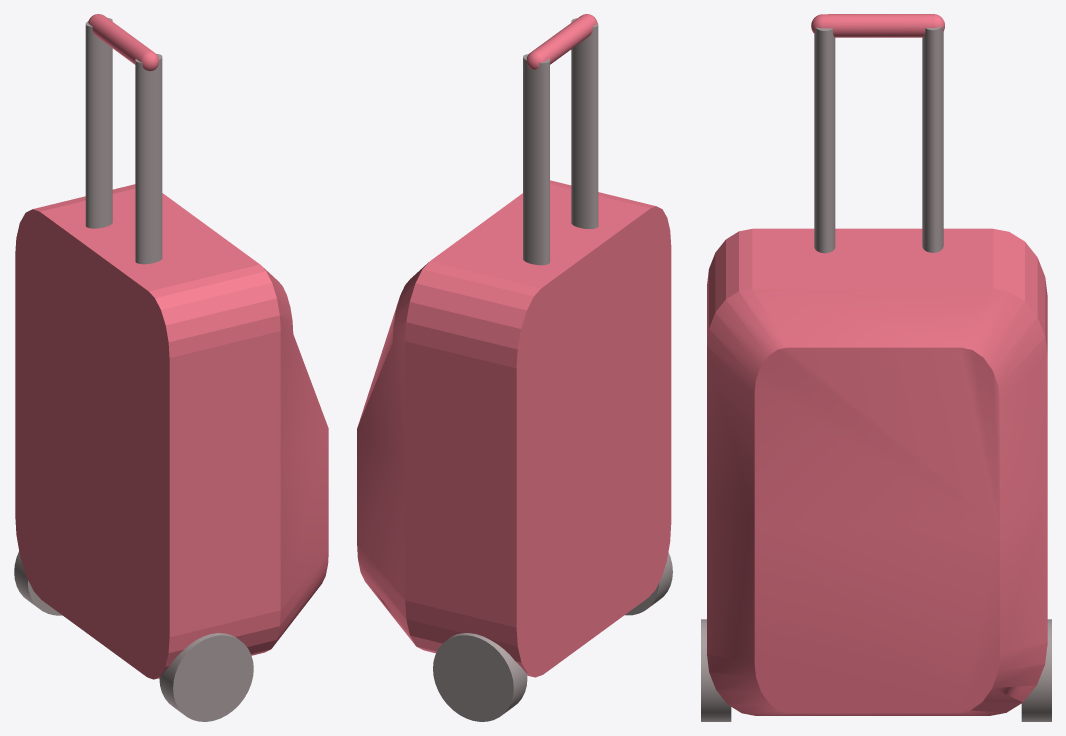
The model's file is kofer3.fbx.
The picture shows the model from 3 angles, left to right: view 1: azimuth 30°, elevation 25°; view 2: azimuth 150°, elevation 25°; view 3: azimuth 270°, elevation 25°; orthographic projection. The views are drawn at different scales.
Visible parts, largest first — view 1: Cube_1, Cylinder, Cylinder_1, Cylinder_2, Capsule, Cylinder_3; view 2: Cube_1, Cylinder_3, Cylinder_2, Cylinder_1, Capsule, Cylinder; view 3: Cube_1, Cylinder_1, Cylinder_2, Capsule, Cylinder_3, Cylinder.
Boxes of the visible parts, x1,y1,x2,y2 form: Cube_1: (15, 184, 328, 679); Cylinder: (159, 633, 253, 721); Cylinder_1: (135, 53, 162, 264); Cylinder_2: (85, 18, 112, 228); Capsule: (88, 14, 158, 71); Cylinder_3: (14, 551, 62, 615); Cube_1: (357, 180, 671, 677); Cylinder_3: (433, 633, 527, 721); Cylinder_2: (523, 54, 549, 265); Cylinder_1: (571, 18, 598, 228); Capsule: (526, 14, 597, 69); Cylinder: (625, 552, 672, 615); Cube_1: (707, 228, 1047, 715); Cylinder_1: (814, 27, 835, 253); Cylinder_2: (922, 26, 943, 252); Capsule: (811, 14, 944, 37); Cylinder_3: (1021, 619, 1051, 721); Cylinder: (701, 619, 731, 721).
Bounding box in the file's own units: 108 × 359 × 164.
